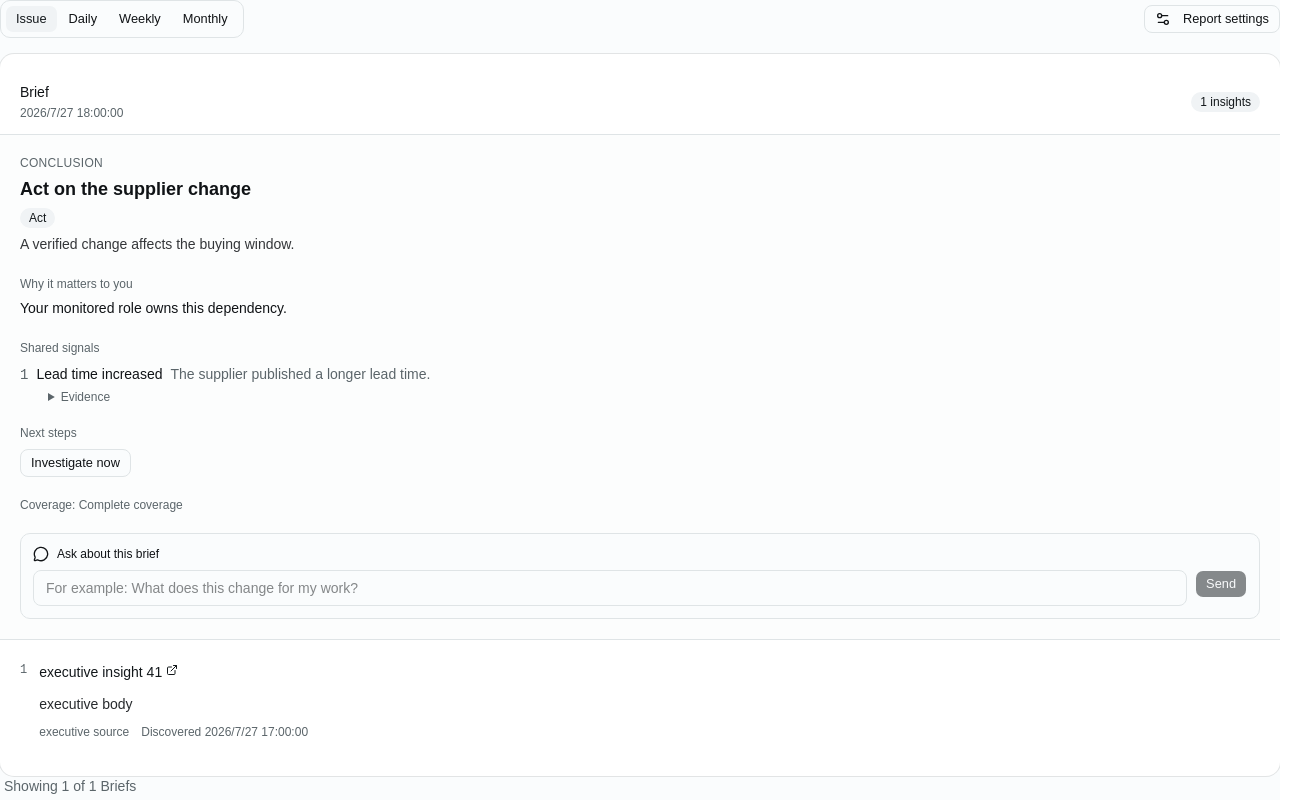
Test case: TaskBriefFeed Markdown boundary › routes a frozen deep-dive step through existing feedback
The image size is (1292, 800).
Check: the heading "Act on the supplier change" is shown, box [20, 179, 251, 199]
What coordinates should you click on to do the following:
click the button "Investigate now"
I would click on:
 (75, 463)
Its box is [20, 449, 131, 477].
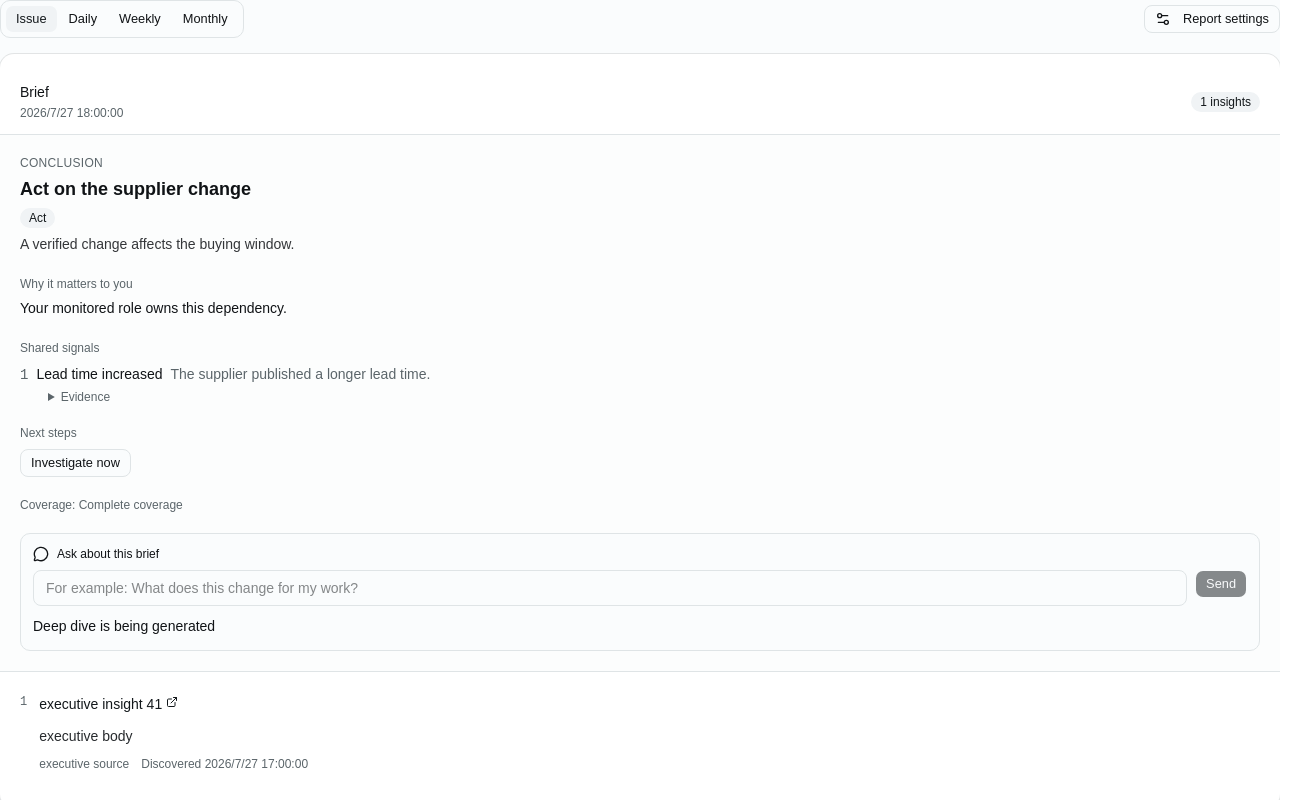
Check: the text "Deep dive is being generated" is shown, box [33, 618, 215, 634]
